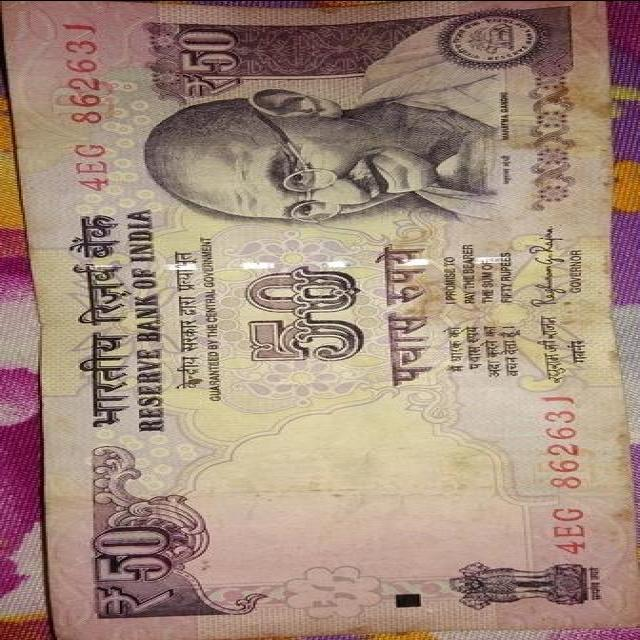50IndianRupees: (35, 0, 640, 637)
